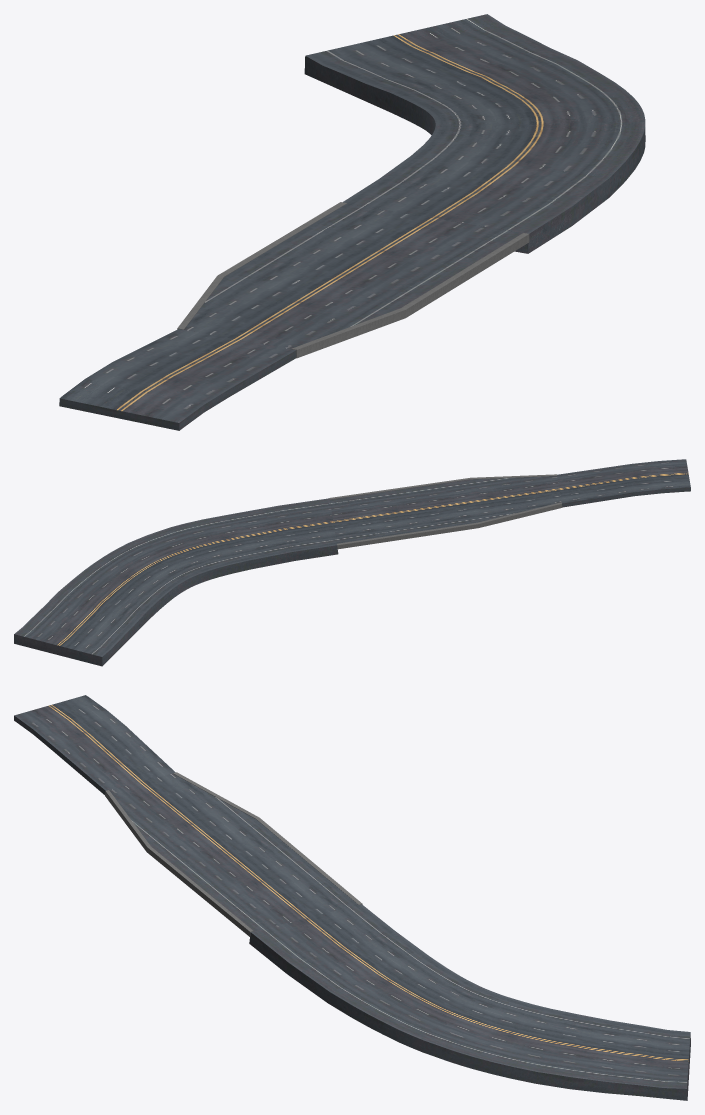
The model's file is Roads for highway.fbx.
The picture shows the model from 3 angles, top to bottom: view 1: azimuth 30°, elevation 25°; view 2: azimuth 150°, elevation 25°; view 3: azimuth 270°, elevation 25°; orthographic projection. The views are drawn at different scales.
Parts seen in each view (by area): view 1: sweep3, CR_Connect_Dok, sweep4; view 2: sweep3, CR_Connect_Dok, sweep4; view 3: sweep3, CR_Connect_Dok, sweep4.
Boxes of the visible parts, x1,y1,x2,y2 form: sweep3: [304, 14, 645, 253]; CR_Connect_Dok: [177, 202, 529, 358]; sweep4: [59, 329, 296, 430]; sweep3: [14, 498, 338, 666]; CR_Connect_Dok: [329, 474, 562, 549]; sweep4: [557, 459, 690, 507]; sweep3: [249, 904, 690, 1100]; CR_Connect_Dok: [105, 772, 362, 936]; sweep4: [14, 695, 175, 794].
Bounding box in the file's own units: 21526 × 4393 × 21784.
2 materials, 2 textured.
